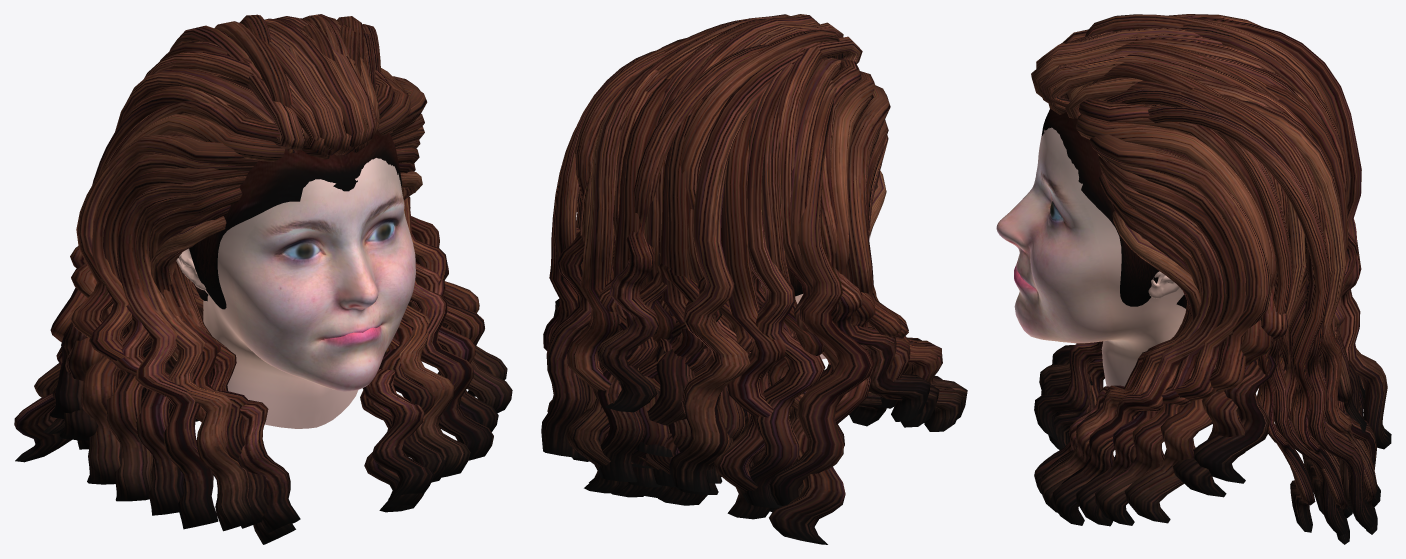
Rendered from lip_close.obj.
3 renders of one model, left to right at view 1: azimuth 30°, elevation 25°; view 2: azimuth 150°, elevation 25°; view 3: azimuth 270°, elevation 25°, orthographic. The views are drawn at different scales.
Visible parts, largest first — view 1: lip_close; view 2: lip_close; view 3: lip_close.
Boxes of the visible parts, bbox=[...] form: lip_close: bbox=[14, 14, 512, 544]; lip_close: bbox=[541, 14, 967, 544]; lip_close: bbox=[996, 14, 1391, 544].
Size of the model in its own units: 365 by 387 by 298.
